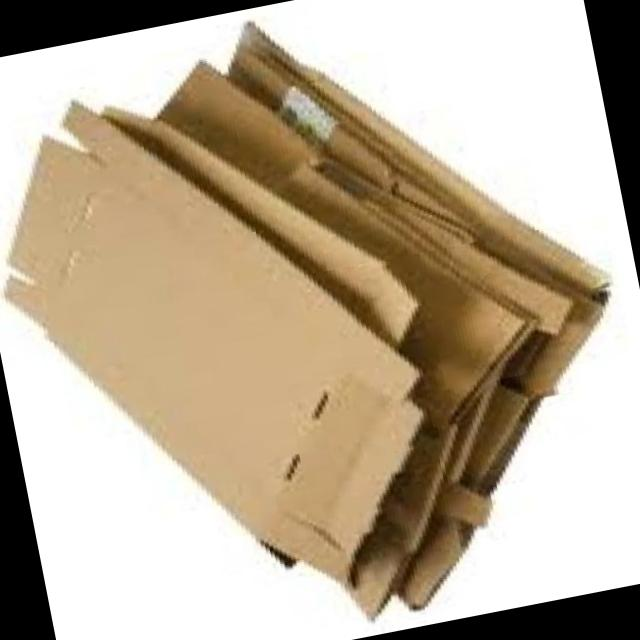cardboard paper: (4, 22, 604, 615), (4, 104, 419, 579)
